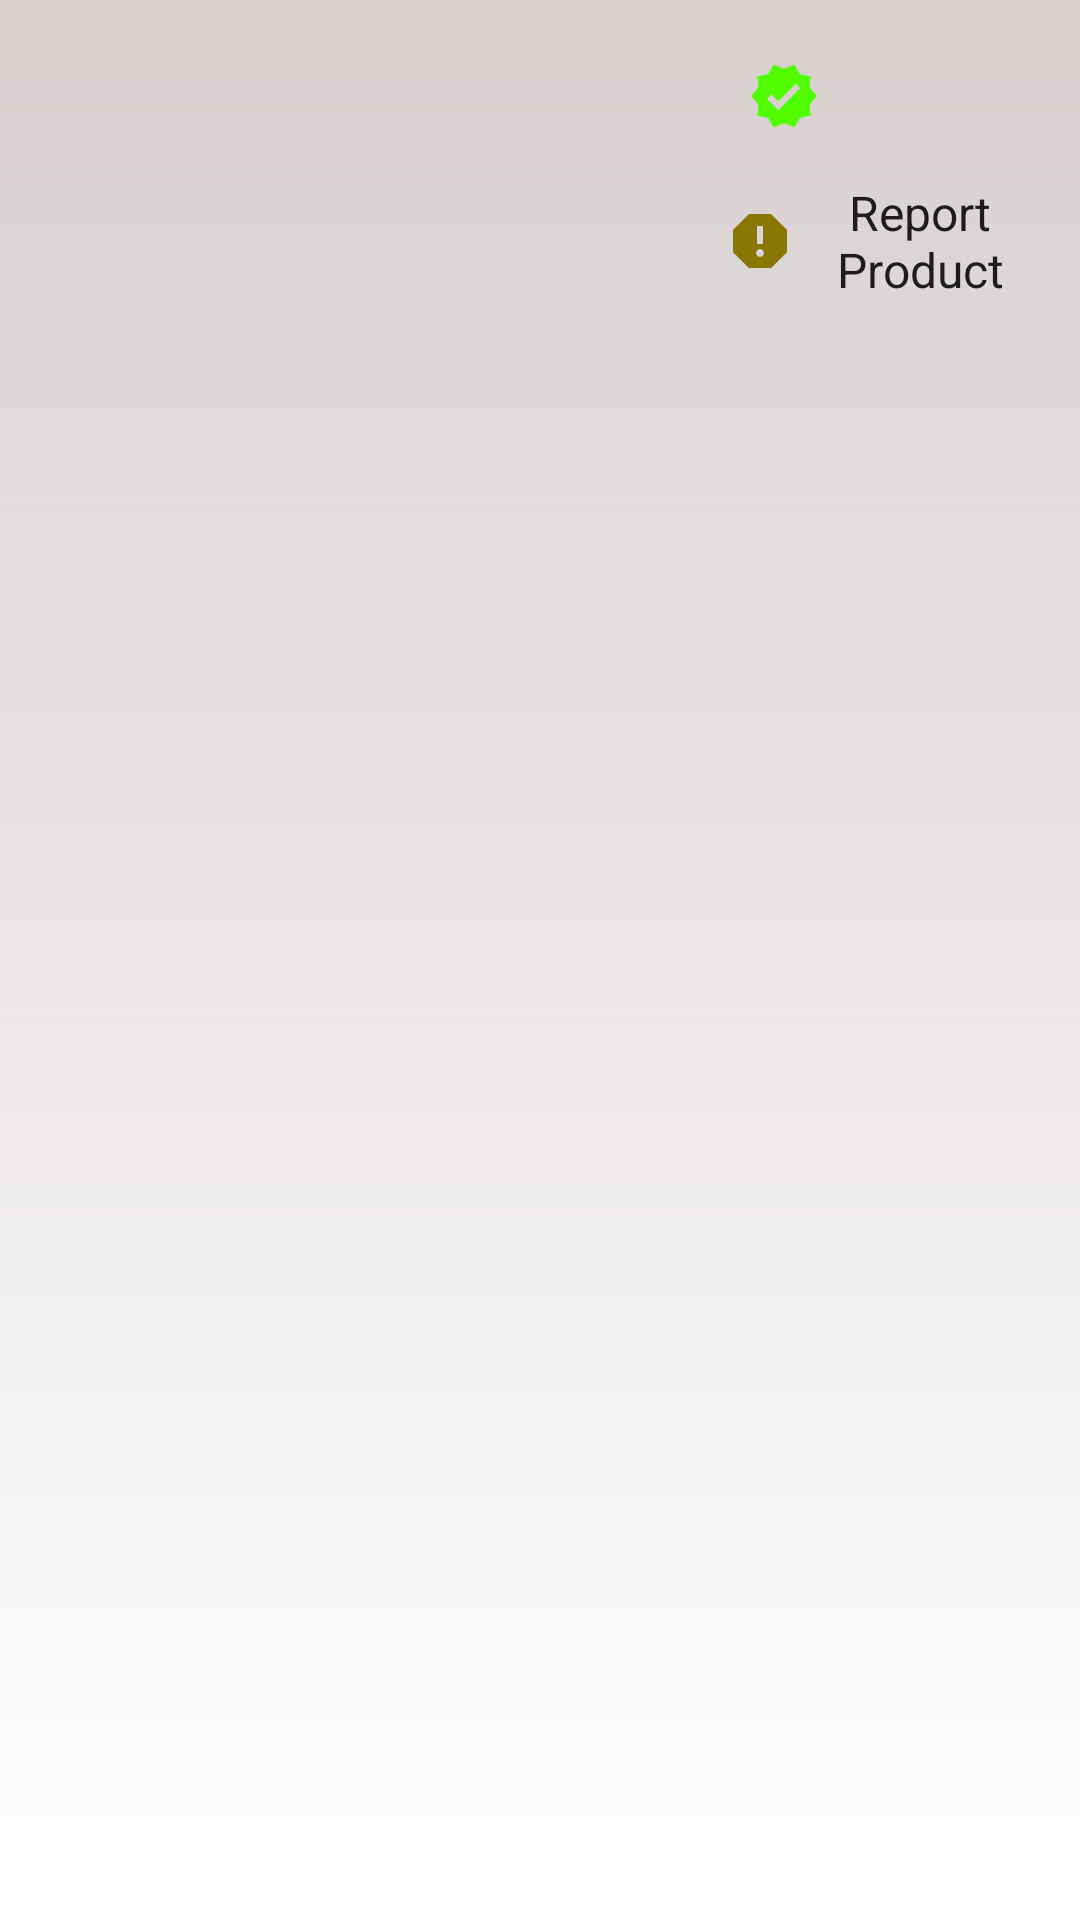

Screen size 1080 × 1920. Icon name, then its center in pixels as (x=x, y=y):
verified: (x=784, y=96)
